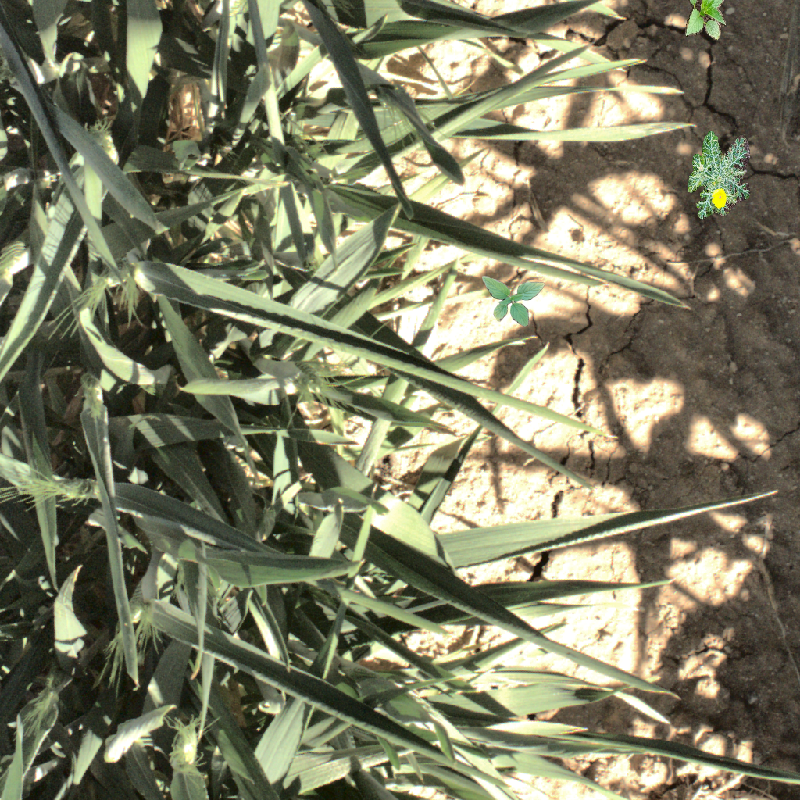spikelet: (20, 473, 96, 505), (165, 726, 206, 773)
weed: (682, 126, 761, 227), (482, 276, 545, 327), (684, 1, 726, 41)
